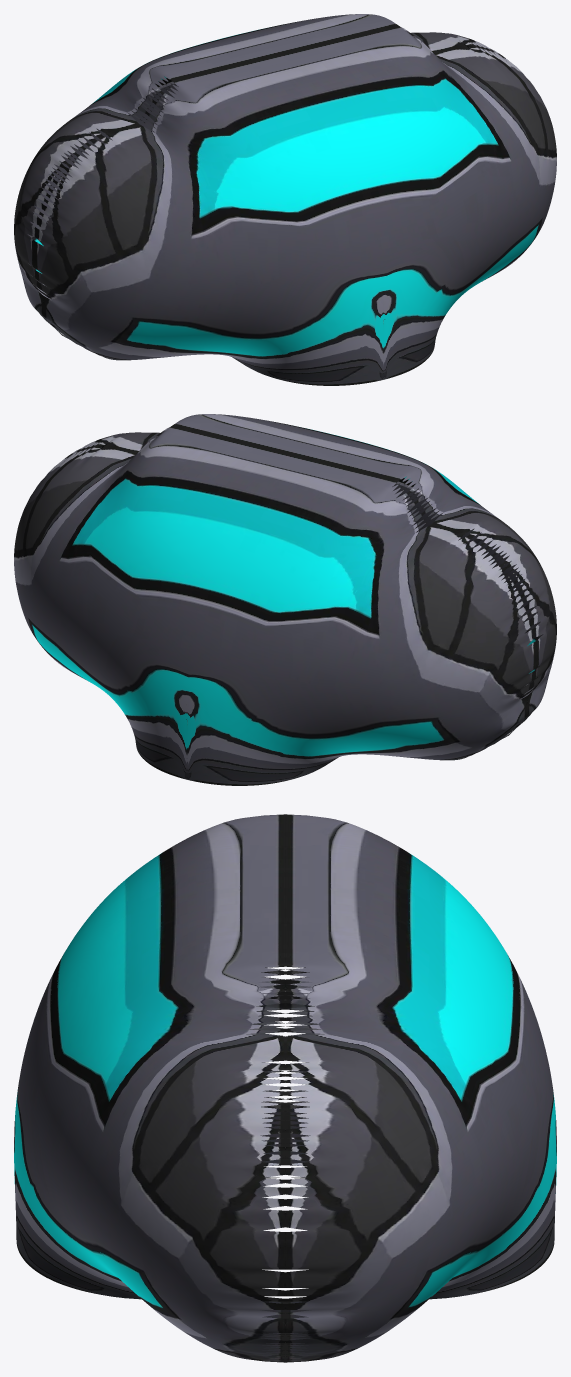
Rendered from rear_housing.glb.
The picture shows the model from 3 angles, top to bottom: view 1: azimuth 30°, elevation 25°; view 2: azimuth 150°, elevation 25°; view 3: azimuth 270°, elevation 25°; orthographic projection. The views are drawn at different scales.
Visible parts, largest first — view 1: rear_housing; view 2: rear_housing; view 3: rear_housing.
Part boxes in pixels (<box>): rear_housing: <box>14,14,556,385</box>; rear_housing: <box>14,414,556,785</box>; rear_housing: <box>14,814,556,1362</box>.
Size of the model in its own units: 0.989 by 0.4807 by 0.6752.
Materials: 1 (1 with a texture image).
